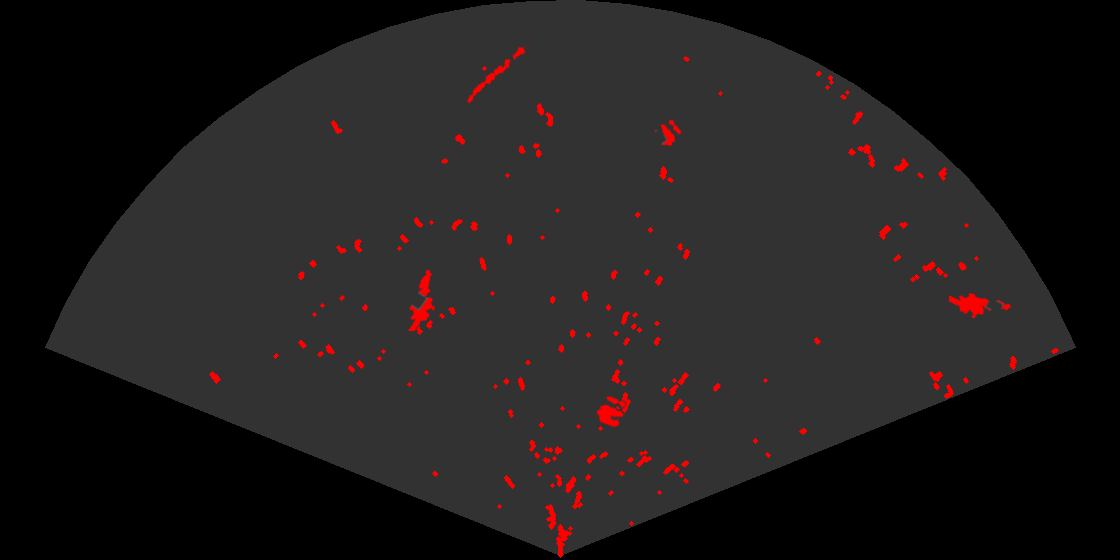ball: (595, 395, 628, 429), (653, 118, 683, 148)
chain: (466, 40, 531, 105)
frogman: (407, 268, 437, 331), (949, 291, 1013, 320)
